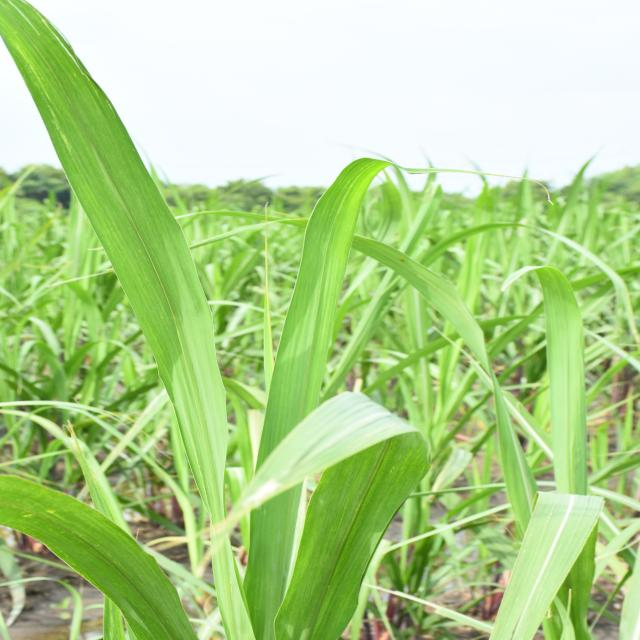Sugarcane: (200, 389, 434, 640), (261, 156, 386, 462), (0, 476, 197, 640), (485, 494, 610, 640)
